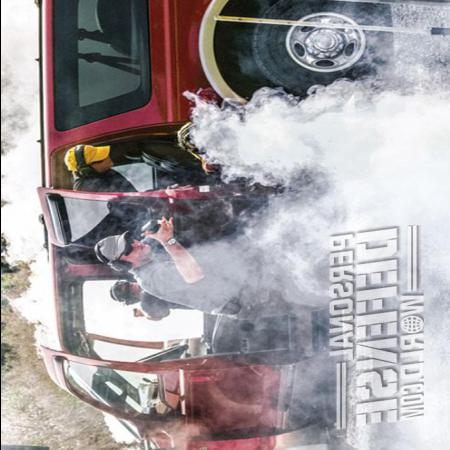Pistol: (136, 218, 163, 232), (130, 308, 142, 316)
